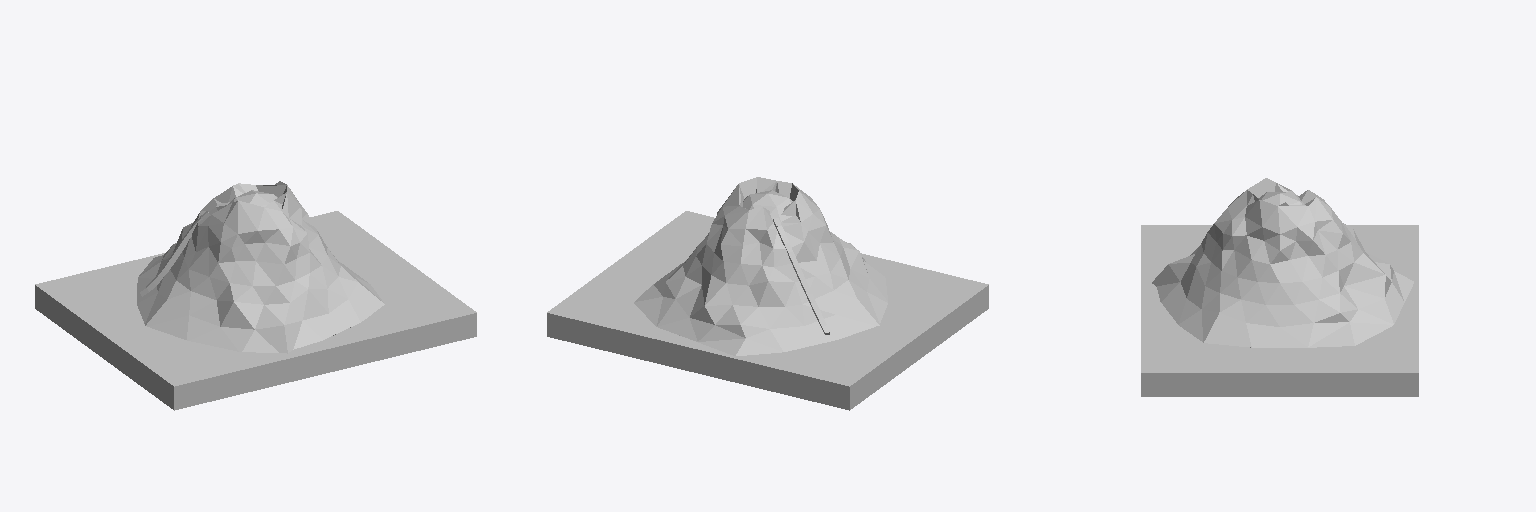
The model's file is lava.obj.
The picture shows the model from 3 angles: view 1: azimuth 30°, elevation 25°; view 2: azimuth 150°, elevation 25°; view 3: azimuth 270°, elevation 25°; orthographic projection.
Visible parts, largest first — view 1: Cube_Cube.001, Volcano_Icosphere.002, Cube.001_Cube.003; view 2: Cube_Cube.001, Volcano_Icosphere.002, Cube.001_Cube.003; view 3: Volcano_Icosphere.002, Cube_Cube.001.
Boxes of the visible parts, box(x1,y1,x2,y2) form: Cube_Cube.001: box(35, 211, 476, 410); Volcano_Icosphere.002: box(137, 181, 384, 353); Cube.001_Cube.003: box(140, 190, 275, 296); Cube_Cube.001: box(547, 211, 988, 410); Volcano_Icosphere.002: box(634, 177, 887, 355); Cube.001_Cube.003: box(743, 191, 829, 334); Volcano_Icosphere.002: box(1152, 178, 1413, 347); Cube_Cube.001: box(1141, 225, 1418, 396).
Bounding box in the file's own units: 263 × 111 × 210.